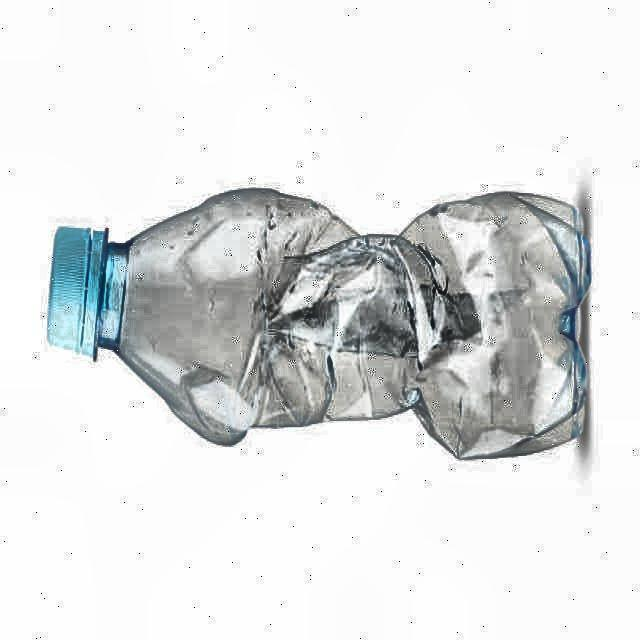plastic: (49, 190, 590, 458)
